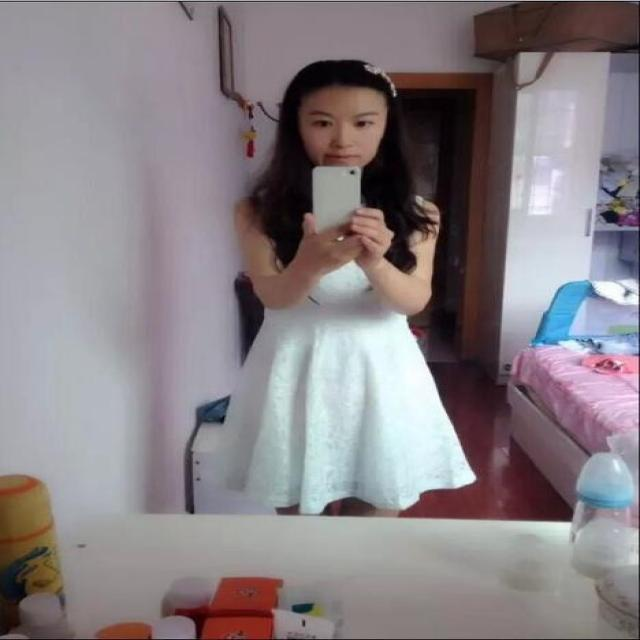vest dress: (202, 195, 477, 509)
